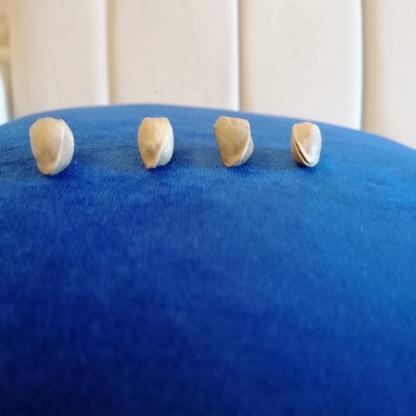pistachio: (30, 117, 79, 177), (135, 113, 180, 173), (211, 117, 256, 165), (288, 119, 323, 171)
